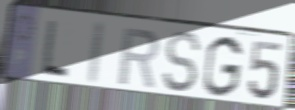5: (247, 39, 284, 102)
G: (202, 34, 245, 99)
I: (84, 19, 108, 87)
L: (38, 18, 71, 81)
R: (117, 25, 162, 90)
S: (161, 30, 203, 95)
